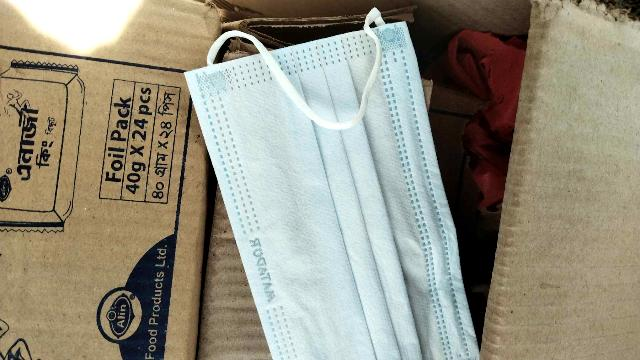mask: (156, 0, 505, 360)
